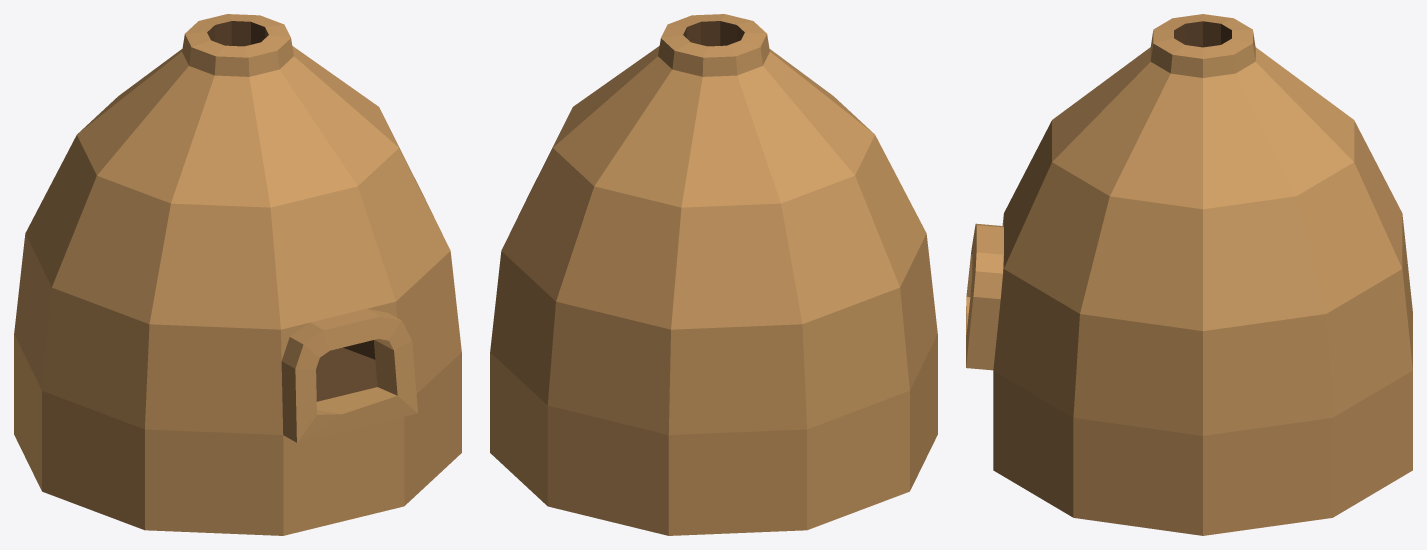
The model's file is egypt_egypt-oven.fbx.
3 views of the same model, side by side, from view 1: azimuth 30°, elevation 25°; view 2: azimuth 150°, elevation 25°; view 3: azimuth 270°, elevation 25° (orthographic).
Visible parts, largest first — view 1: egypt_egypt_oven; view 2: egypt_egypt_oven; view 3: egypt_egypt_oven.
Boxes of the visible parts, box(x1,y1,x2,y2) form: egypt_egypt_oven: box(14, 14, 461, 535); egypt_egypt_oven: box(490, 14, 937, 535); egypt_egypt_oven: box(966, 14, 1412, 535).
Size of the model in its own units: 200 by 200 by 199.
